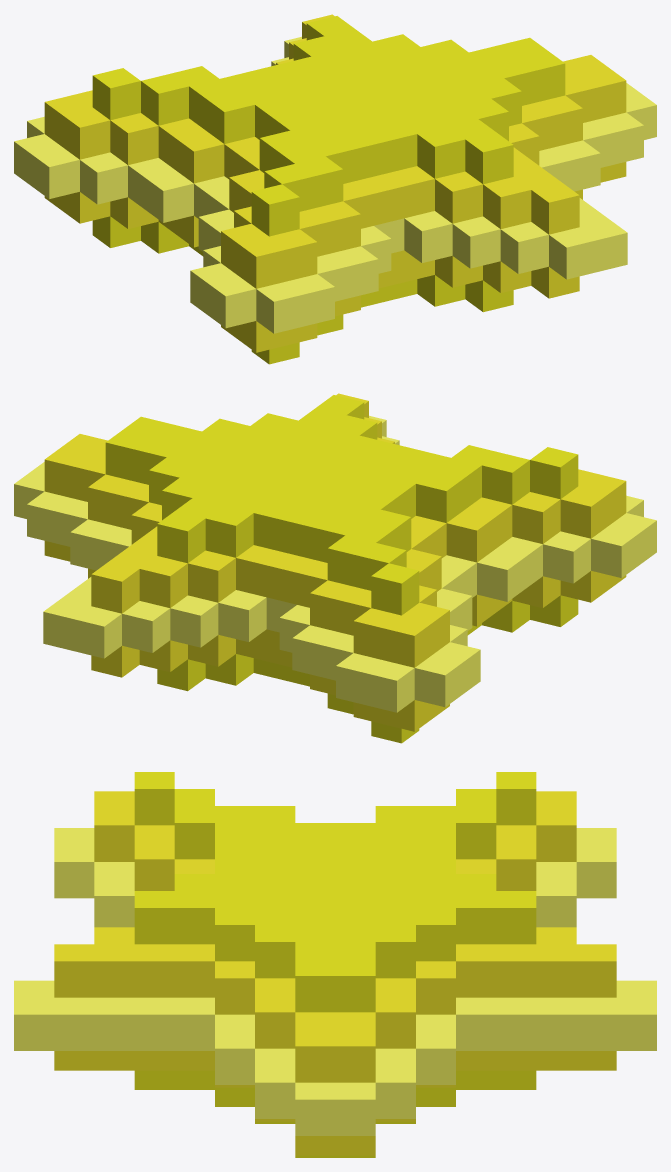
The model's file is star3d.obj.
3 renders of one model, top to bottom at view 1: azimuth 30°, elevation 25°; view 2: azimuth 150°, elevation 25°; view 3: azimuth 270°, elevation 25°, orthographic. The views are drawn at different scales.
Bounding box in the file's own units: 1.7 × 0.5 × 1.6.
Materials: 1 (1 with a texture image).
